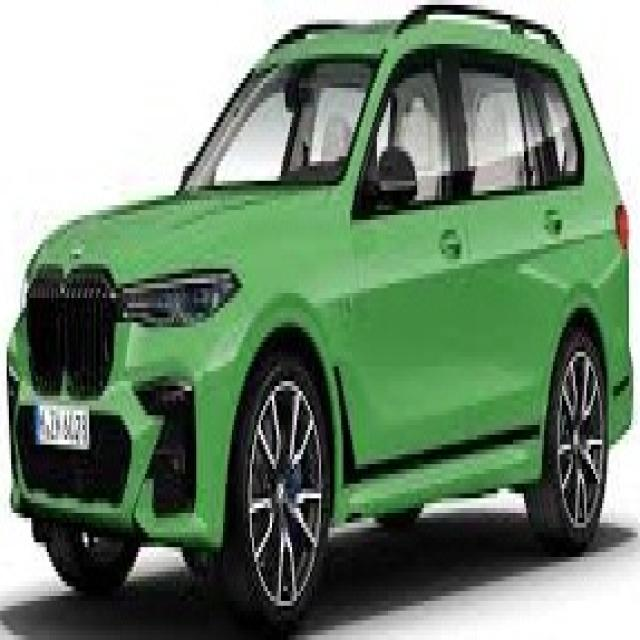green: (6, 0, 635, 621)
